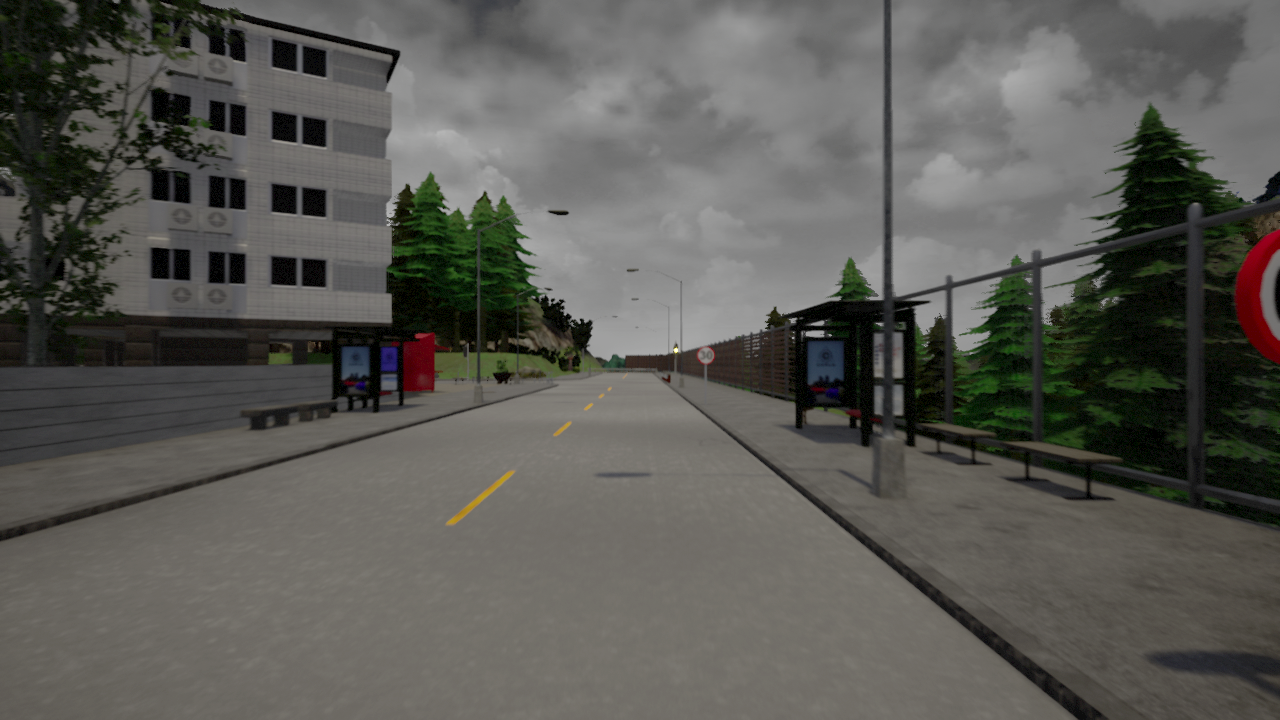yellow: (672, 343, 678, 357)
